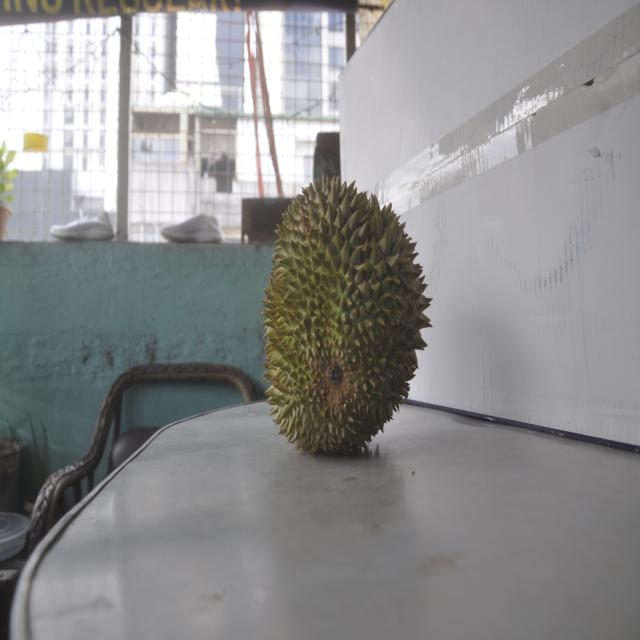mature: (261, 173, 416, 455)
